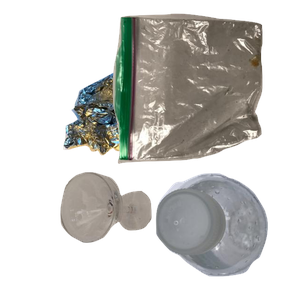glass: (58, 170, 202, 300)
metal: (61, 54, 225, 202)
plastic: (153, 170, 300, 300)
trash: (110, 11, 300, 167)
